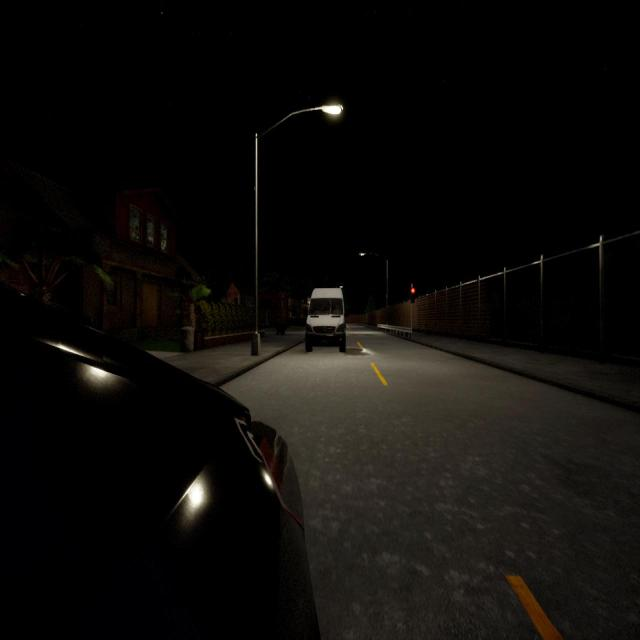Vehicle: (0, 285, 319, 637), (305, 288, 347, 352)
traffic_light: (410, 285, 416, 304)
